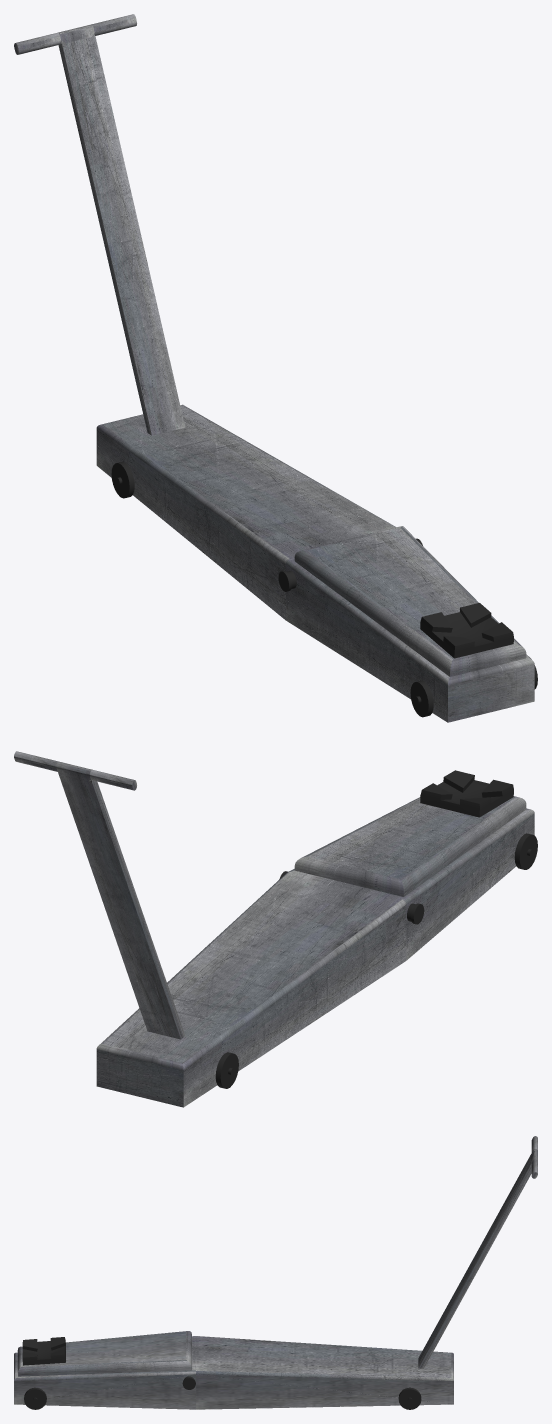
Rendered from carjack.fbx.
3 views of the same model, one above another, from view 1: azimuth 30°, elevation 25°; view 2: azimuth 150°, elevation 25°; view 3: azimuth 270°, elevation 25° (orthographic). The views are drawn at different scales.
Visible parts, largest first — view 1: carjackbody, carjackhold, carjackblack; view 2: carjackbody, carjackhold, carjackblack, carjackrear, carjackwhellfront; view 3: carjackbody, carjackhold, carjackblack, carjackrear, carjackwhellfront.
Boxes of the visible parts, left/top/right/bottom form: carjackbody: left=96, top=404, right=534, bottom=722; carjackhold: left=14, top=14, right=185, bottom=435; carjackblack: left=420, top=603, right=513, bottom=658; carjackbody: left=96, top=796, right=534, bottom=1107; carjackhold: left=14, top=751, right=185, bottom=1039; carjackblack: left=420, top=770, right=513, bottom=817; carjackrear: left=215, top=1052, right=238, bottom=1088; carjackwhellfront: left=514, top=833, right=537, bottom=869; carjackbody: left=14, top=1331, right=453, bottom=1409; carjackhold: left=418, top=1136, right=537, bottom=1368; carjackblack: left=22, top=1337, right=65, bottom=1365; carjackrear: left=398, top=1387, right=421, bottom=1409; carjackwhellfront: left=24, top=1387, right=46, bottom=1409.
Bounding box in the file's own units: 74.27 × 200 × 398.
Materials: 2 (1 with a texture image).
